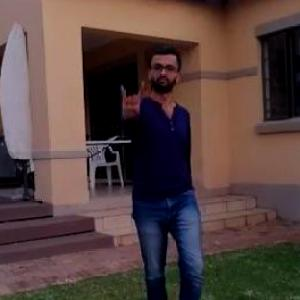takeoff-hand: (116, 75, 149, 130)
